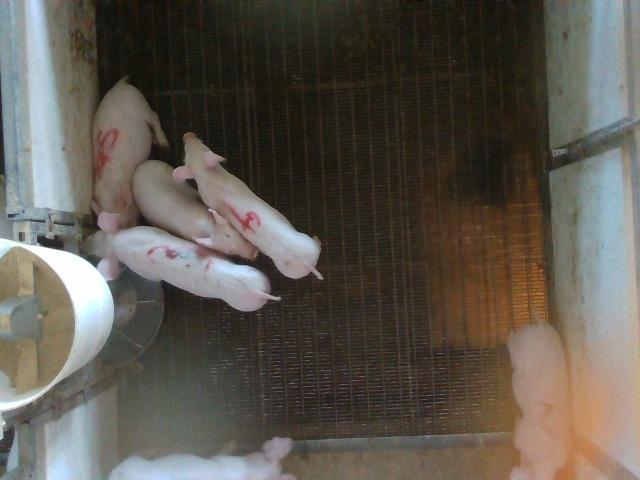pig-1: (109, 438, 295, 480)
pig-2: (508, 322, 572, 478)
pig-3: (84, 211, 280, 311)
pig-4: (174, 132, 322, 279)
pig-5: (92, 76, 169, 227)
